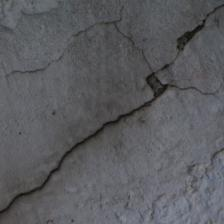Crack: (0, 0, 178, 179), (131, 2, 172, 96), (134, 119, 190, 177), (92, 52, 158, 76)
